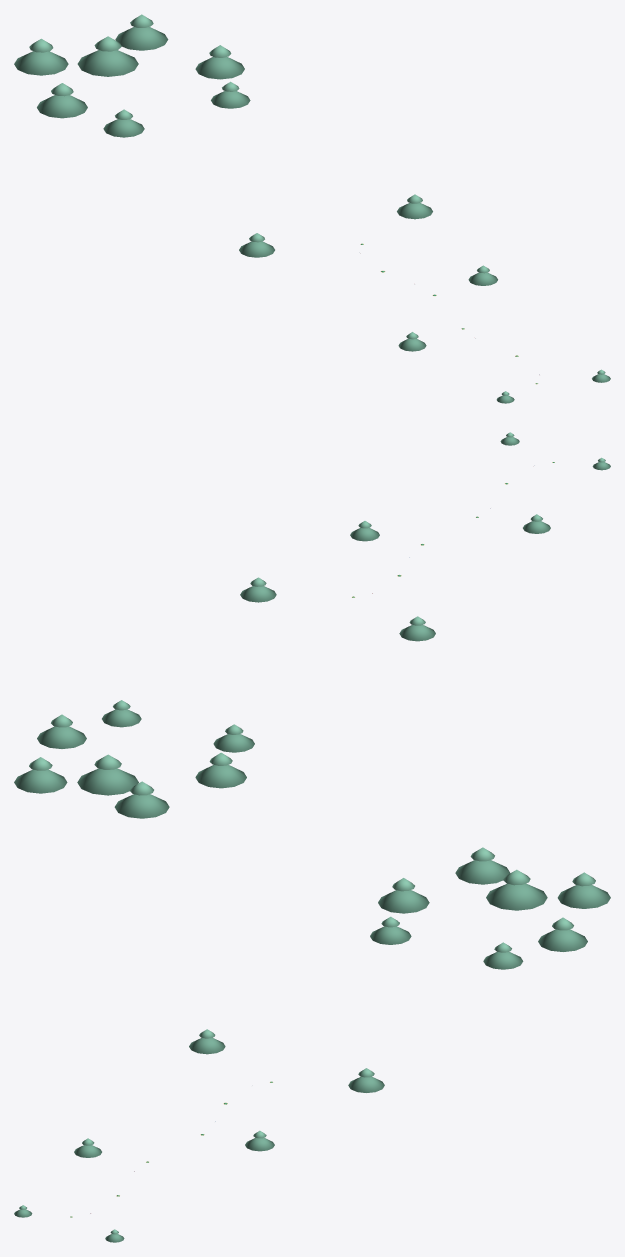
The model's file is terrain.glb.
3 renders of one model, top to bottom at view 1: azimuth 30°, elevation 25°; view 2: azimuth 150°, elevation 25°; view 3: azimuth 330°, elevation 25°, orthographic.
Parts seen in each view (by area): view 1: Continental_Mountains_Ranges; view 2: Continental_Mountains_Ranges; view 3: Continental_Mountains_Ranges.
Boxes of the visible parts, box(x1,y1,x2,y2) form: Continental_Mountains_Ranges: box(14, 14, 610, 403); Continental_Mountains_Ranges: box(14, 432, 610, 818); Continental_Mountains_Ranges: box(14, 847, 610, 1242).
Size of what is drawn, in the model's own units: 14050 by 1850 by 58030.
